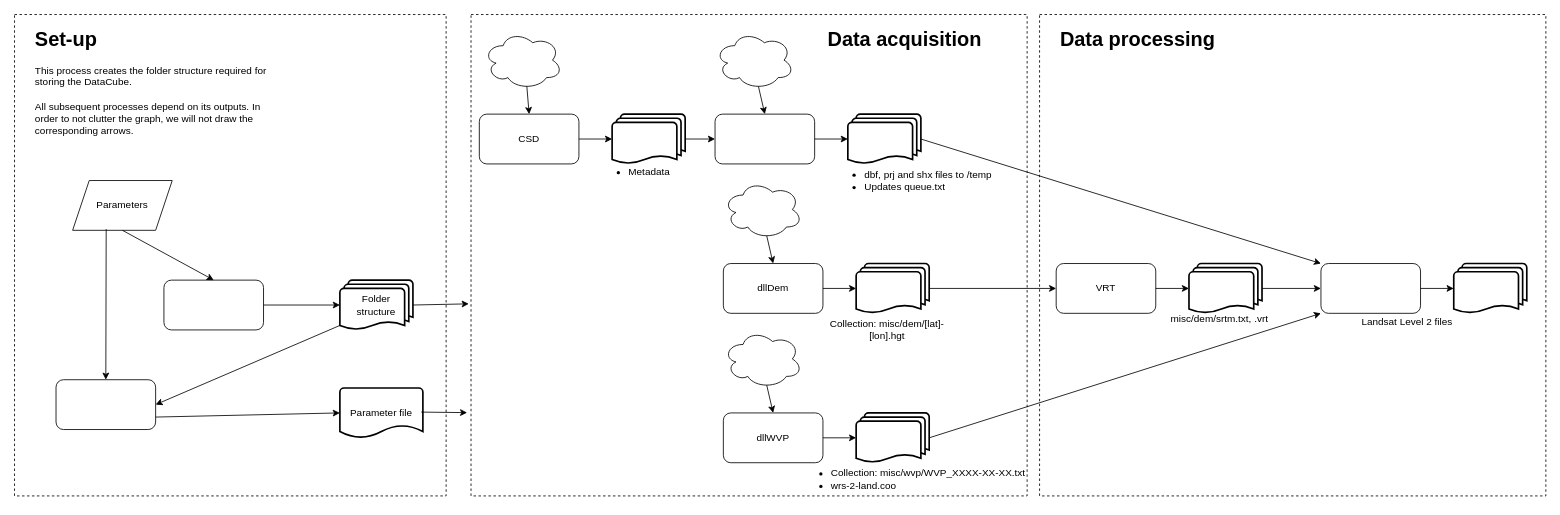
The diagram is 1560 pixels wide and 515 high, and some of its shapes have lost their labels. Here are the shapes that lost their labels. From the top down, the centre of each, then its label:
At (764,138): "GetScenes".
At (213,304): "setFolders".
At (1370,288): "process2L2".
At (105,404): "makeParFile".
